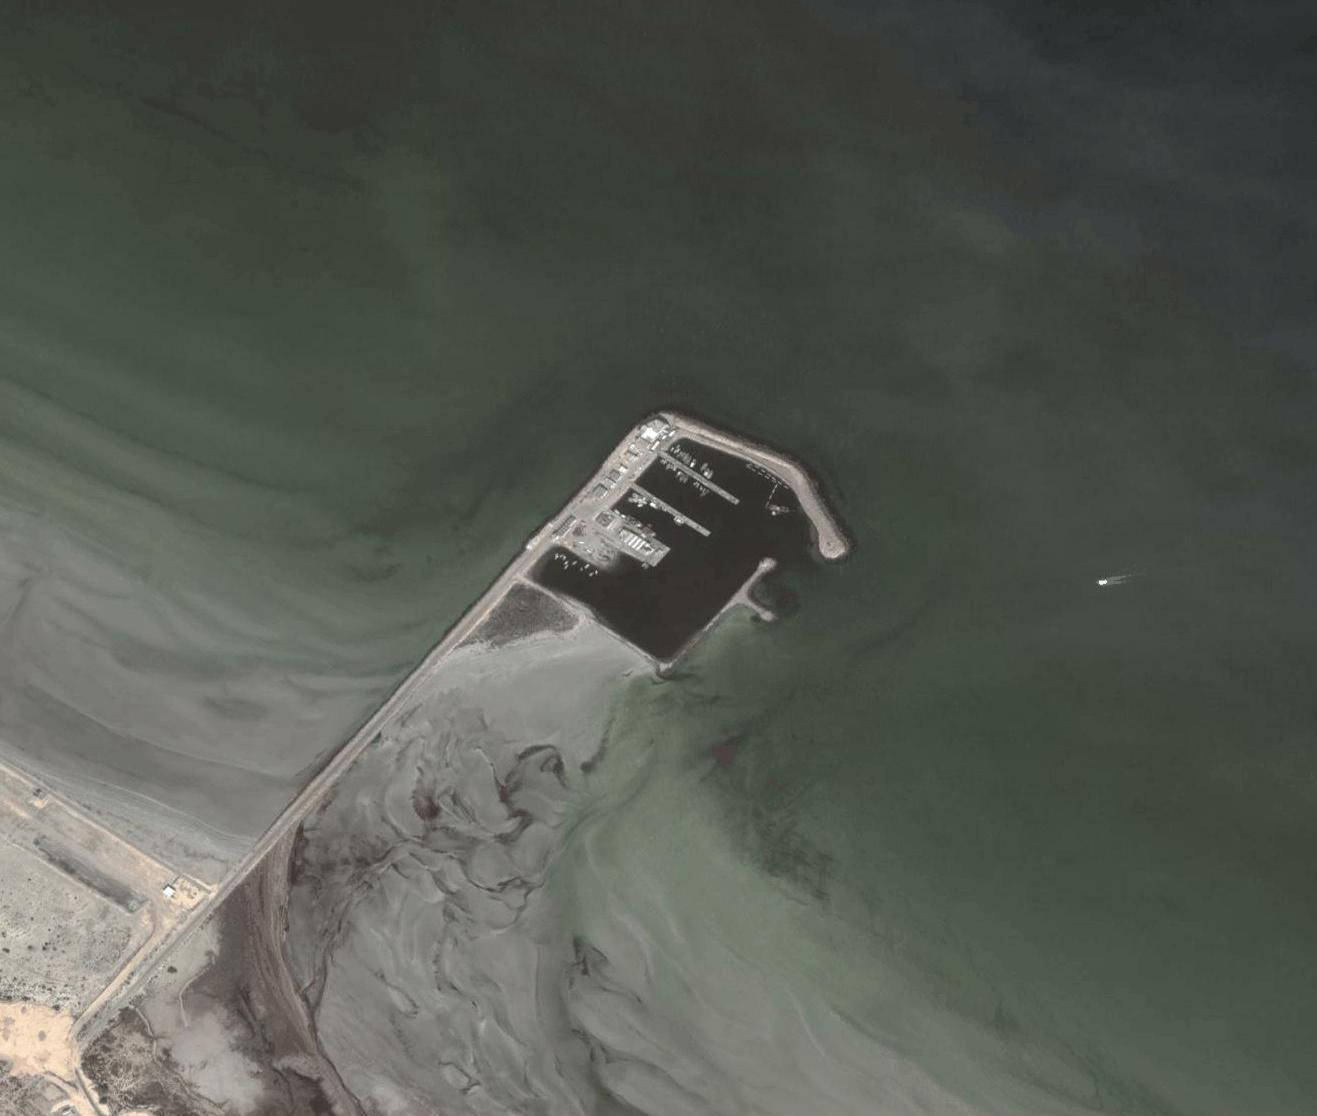harbor: (504, 373, 862, 697)
